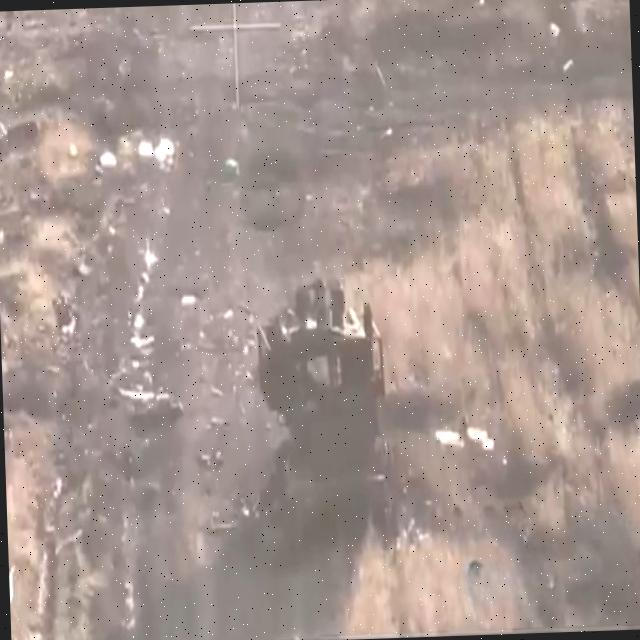Destroyed: (252, 268, 394, 513)
